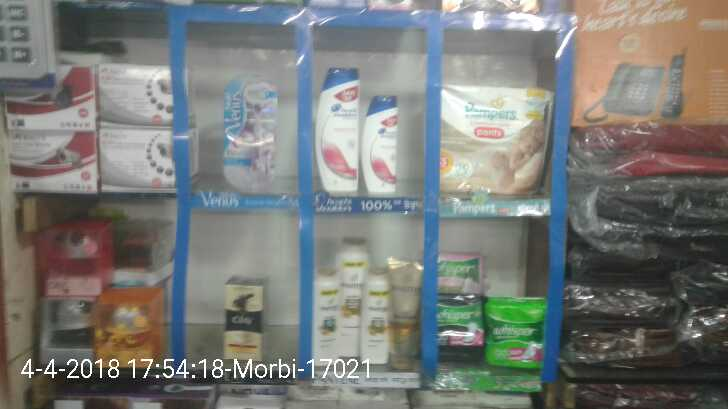venus: (224, 76, 281, 191)
